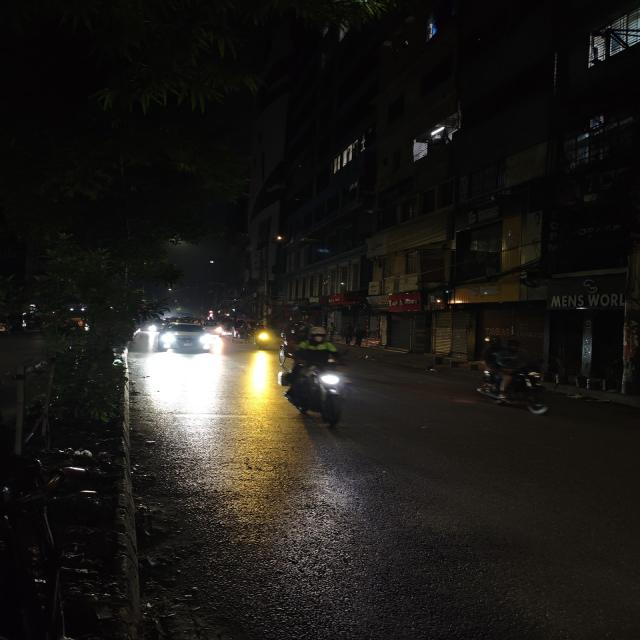car: (153, 318, 214, 358), (202, 318, 224, 338)
motorcycle: (275, 320, 366, 431), (470, 337, 554, 419), (250, 326, 274, 353)
rickshaw: (229, 321, 252, 346)
